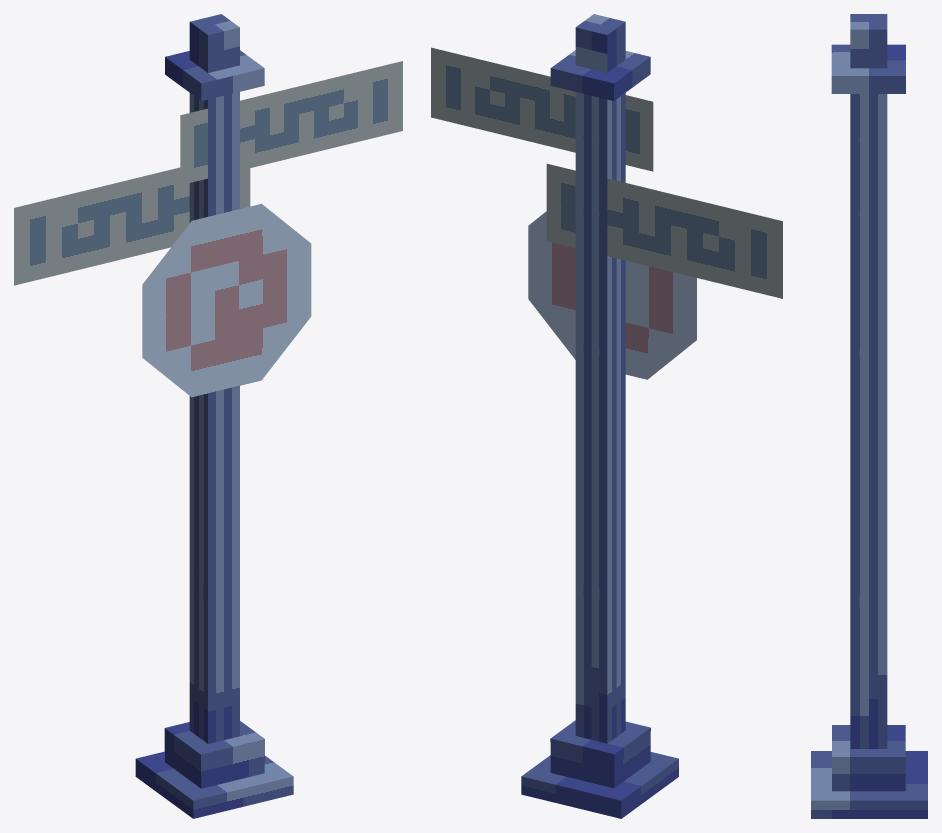
File: Sign.fbx
The picture shows the model from 3 angles, left to right: view 1: azimuth 30°, elevation 25°; view 2: azimuth 150°, elevation 25°; view 3: azimuth 270°, elevation 25°; orthographic projection.
Visible parts, largest first — view 1: Stop; view 2: Stop; view 3: Stop.
Part boxes in pixels (bbox=[...]): Stop: bbox=[14, 14, 402, 818]; Stop: bbox=[431, 14, 782, 818]; Stop: bbox=[811, 14, 927, 818].
Bounding box in the file's own units: 397 × 780 × 107.
